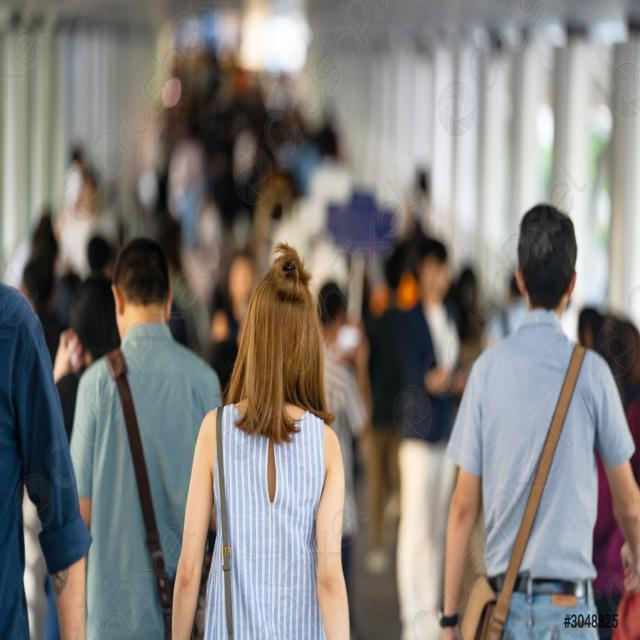person: (428, 199, 639, 640), (161, 239, 374, 640), (47, 235, 224, 640), (0, 251, 94, 640)
